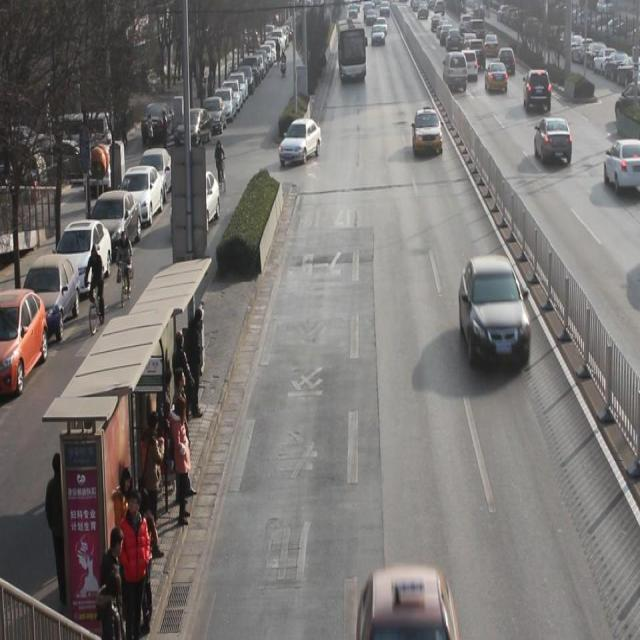car: (462, 258, 532, 368), (364, 567, 454, 640), (170, 175, 222, 237), (279, 118, 322, 163), (604, 139, 640, 192), (535, 118, 572, 168), (413, 106, 443, 157), (524, 70, 552, 114), (485, 58, 509, 95), (615, 79, 640, 114), (466, 40, 485, 68), (462, 51, 478, 82), (499, 48, 516, 75), (484, 32, 499, 57), (471, 18, 485, 40), (460, 33, 477, 51), (447, 29, 462, 49), (372, 24, 385, 47), (440, 24, 453, 45), (460, 13, 472, 32), (377, 16, 388, 36), (474, 1, 484, 22), (366, 10, 377, 26)
truck: (443, 53, 468, 94)
van: (336, 19, 365, 82)
